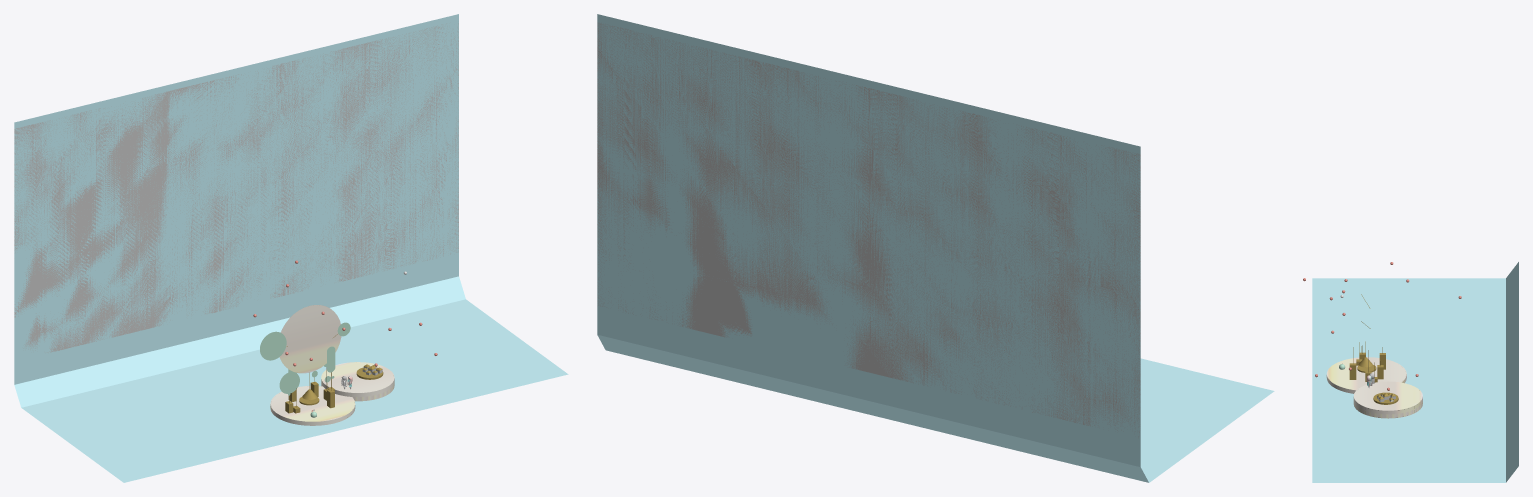
The picture shows the model from 3 angles, left to right: view 1: azimuth 30°, elevation 25°; view 2: azimuth 150°, elevation 25°; view 3: azimuth 270°, elevation 25°; orthographic projection. The views are drawn at different scales.
Parts seen in each view (by area): view 1: Plan_1, Plan, feuillage, socle_1, socle_2_2, Disque_1_2; view 2: Plan_1, Plan; view 3: Plan_1, socle_2_2, socle_1.
Part boxes in pixels (x1=…): Plan_1: x1=14, y1=14, x2=568, y2=482; Plan: x1=14, y1=23, x2=458, y2=352; feuillage: x1=279, y1=305, x2=341, y2=373; socle_1: x1=270, y1=386, x2=355, y2=425; socle_2_2: x1=321, y1=362, x2=394, y2=401; Disque_1_2: x1=260, y1=331, x2=286, y2=360; Plan_1: x1=597, y1=14, x2=1274, y2=482; Plan: x1=597, y1=22, x2=1140, y2=437; Plan_1: x1=1312, y1=262, x2=1518, y2=482; socle_2_2: x1=1353, y1=381, x2=1422, y2=418; socle_1: x1=1326, y1=357, x2=1406, y2=393.
Size of the model in its own units: 400 by 241 by 178.
17 materials, 10 textured.
